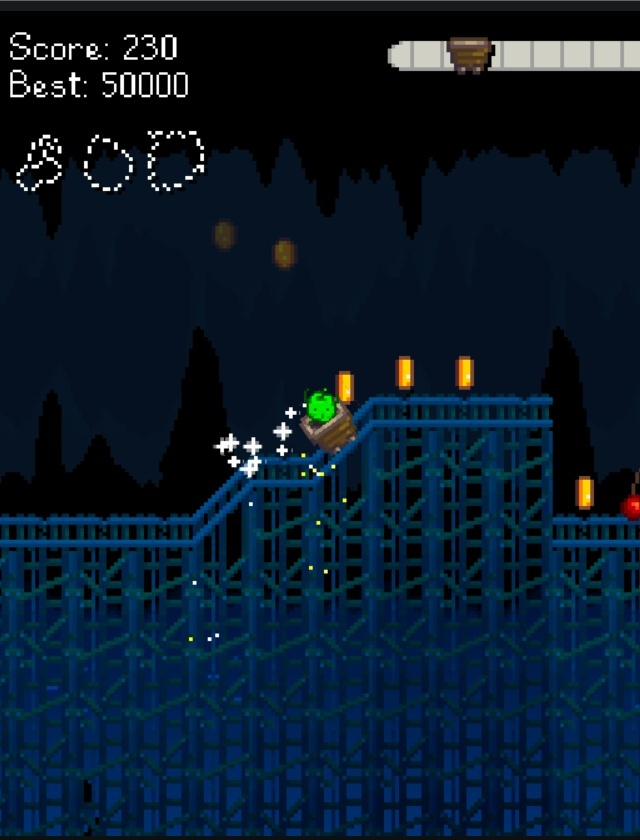cherry: (622, 494, 639, 520)
coins: (575, 476, 593, 511), (336, 371, 354, 404), (396, 356, 413, 390), (456, 356, 473, 390)
minecart: (300, 389, 354, 453)
score: (118, 31, 181, 65)
tracks: (0, 383, 560, 551)
